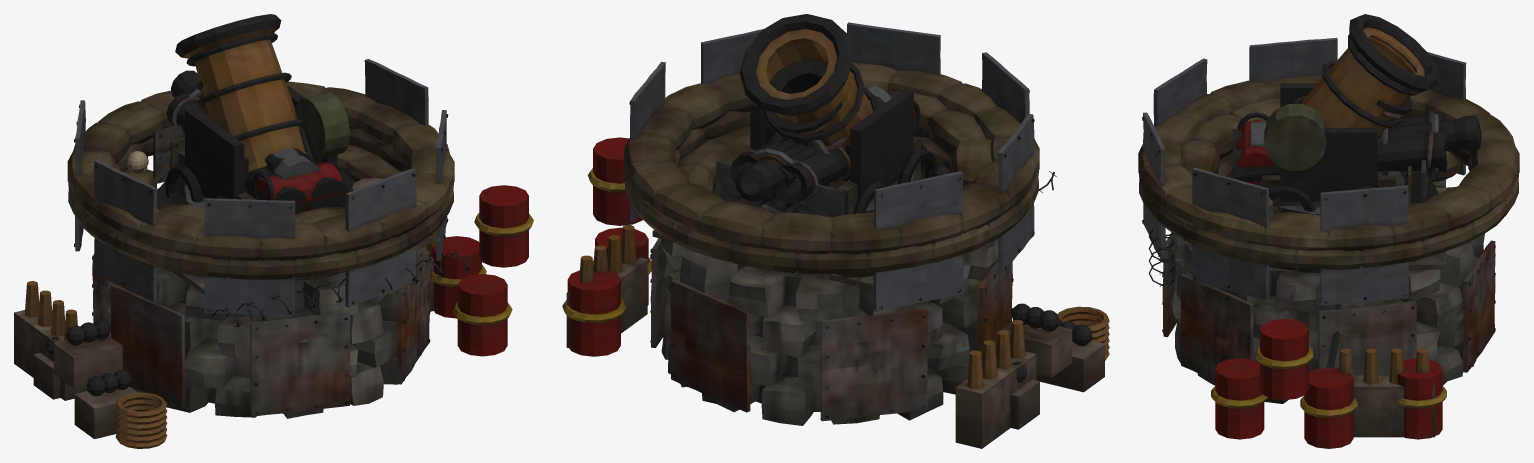
Rendered from cannon.glb.
3 renders of one model, left to right at view 1: azimuth 30°, elevation 25°; view 2: azimuth 150°, elevation 25°; view 3: azimuth 270°, elevation 25°, orthographic. The views are drawn at different scales.
Visible parts, largest first — view 1: Lv4a, Lv5b, Lv3, Turret_a5, Lv1, Lv5a, Turret_b4, Turret_b5, Lv4b, Lv2, Turret; view 2: Lv4a, Lv1, Lv3, Lv5b, Turret_a5, Lv4b, Lv5a, Lv2, Turret_b4, Turret_b5, Turret_a4, Turret; view 3: Lv4a, Lv5b, Turret_a5, Lv3, Lv5a, Lv1, Turret_b5, Turret_b4, Lv4b, Lv2, Turret, Turret_a4.
Part boxes in pixels (x1=…): Lv4a: x1=33, y1=81, x2=454, y2=439; Lv5b: x1=74, y1=59, x2=448, y2=448; Lv3: x1=92, y1=151, x2=470, y2=416; Turret_a5: x1=156, y1=14, x2=355, y2=211; Lv1: x1=101, y1=177, x2=433, y2=418; Lv5a: x1=420, y1=185, x2=533, y2=356; Turret_b4: x1=153, y1=93, x2=353, y2=214; Turret_b5: x1=153, y1=88, x2=350, y2=200; Lv4b: x1=14, y1=230, x2=436, y2=400; Lv2: x1=121, y1=144, x2=400, y2=281; Turret: x1=170, y1=70, x2=346, y2=208; Lv4a: x1=624, y1=62, x2=1104, y2=429; Lv1: x1=652, y1=165, x2=997, y2=425; Lv3: x1=650, y1=171, x2=1056, y2=421; Lv5b: x1=629, y1=22, x2=1109, y2=360; Turret_a5: x1=714, y1=14, x2=925, y2=212; Lv4b: x1=566, y1=225, x2=1036, y2=448; Lv5a: x1=562, y1=137, x2=651, y2=356; Lv2: x1=678, y1=90, x2=992, y2=277; Turret_b4: x1=716, y1=114, x2=937, y2=217; Turret_b5: x1=717, y1=85, x2=920, y2=214; Turret_a4: x1=765, y1=58, x2=850, y2=182; Turret: x1=735, y1=143, x2=926, y2=214; Lv4a: x1=1138, y1=75, x2=1519, y2=269; Lv5b: x1=1142, y1=37, x2=1466, y2=305; Turret_a5: x1=1228, y1=14, x2=1438, y2=215; Lv3: x1=1148, y1=151, x2=1495, y2=380; Lv5a: x1=1211, y1=304, x2=1446, y2=448; Lv1: x1=1171, y1=179, x2=1484, y2=403; Turret_b5: x1=1237, y1=104, x2=1445, y2=202; Turret_b4: x1=1232, y1=111, x2=1447, y2=213; Lv4b: x1=1338, y1=348, x2=1434, y2=437; Lv2: x1=1181, y1=97, x2=1460, y2=272; Turret: x1=1256, y1=115, x2=1481, y2=213; Turret_a4: x1=1314, y1=97, x2=1417, y2=207.
Bounding box in the file's own units: 4.66 × 3.2 × 3.42.
1 material, 1 textured.
